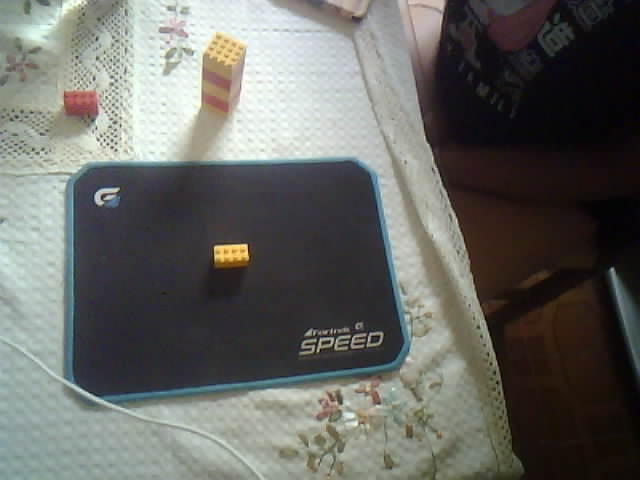lego: (199, 32, 247, 119), (211, 243, 250, 269), (63, 90, 98, 117)
